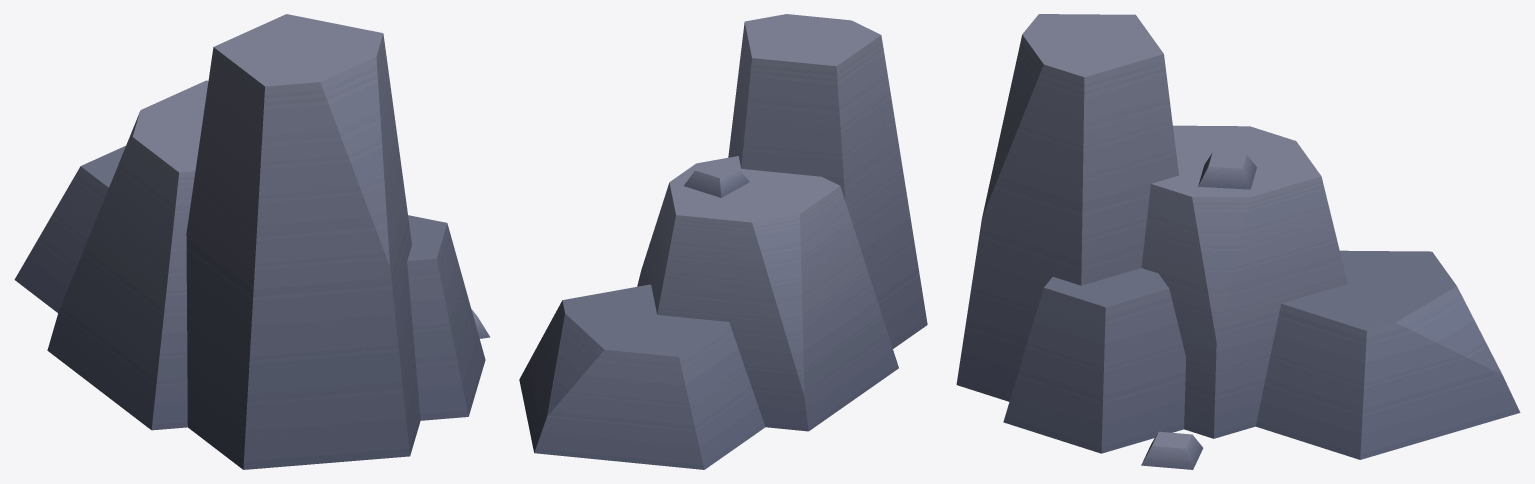
Rendered from rock-c.001_lev3.glb.
3 renders of one model, left to right at view 1: azimuth 30°, elevation 25°; view 2: azimuth 150°, elevation 25°; view 3: azimuth 270°, elevation 25°, orthographic. The views are drawn at different scales.
Parts seen in each view (by area): view 1: rock-c.001_lev3; view 2: rock-c.001_lev3; view 3: rock-c.001_lev3.
Boxes of the visible parts, left/top/right/bottom form: rock-c.001_lev3: left=14, top=14, right=489, bottom=469; rock-c.001_lev3: left=519, top=14, right=927, bottom=469; rock-c.001_lev3: left=956, top=14, right=1520, bottom=469.
Size of the model in its own units: 13.7 by 13.14 by 20.54.
Materials: 1 (1 with a texture image).
